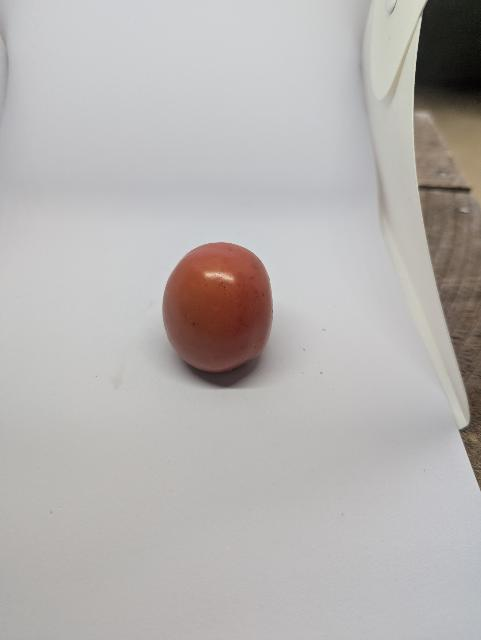red: (157, 230, 290, 379)
